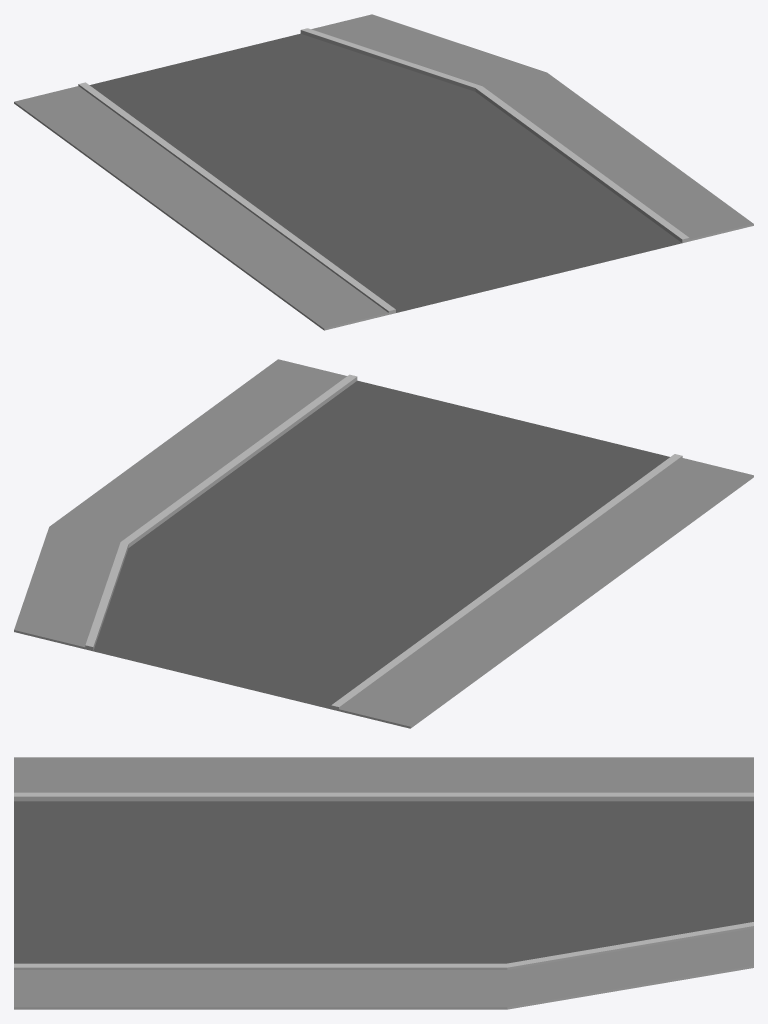
File: street_4to3_l.fbx
3 views of the same model, one above another, from view 1: azimuth 30°, elevation 25°; view 2: azimuth 150°, elevation 25°; view 3: azimuth 270°, elevation 25° (orthographic). The views are drawn at different scales.
Parts seen in each view (by area): view 1: street_4to3_l; view 2: street_4to3_l; view 3: street_4to3_l.
Boxes of the visible parts, x1,y1,x2,y2 form: street_4to3_l: (14,14,753,330); street_4to3_l: (14,359,753,728); street_4to3_l: (14,757,753,1009).
Size of the model in its own units: 24 by 0.2 by 30.01.
